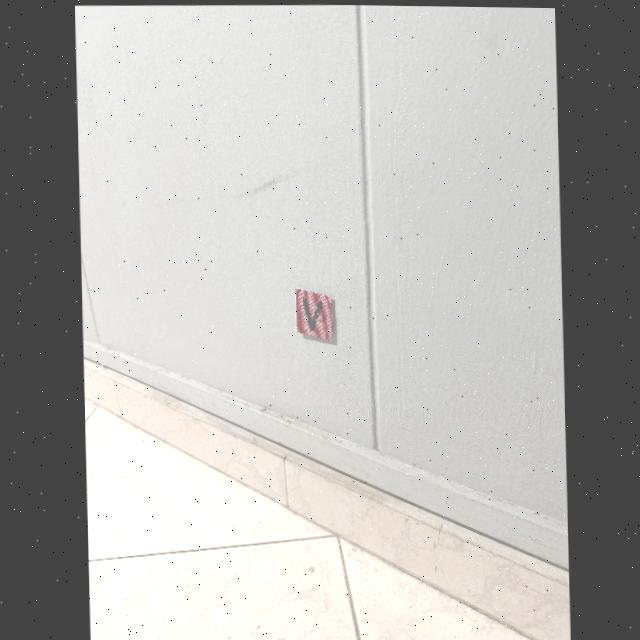V: (303, 296, 322, 329)
